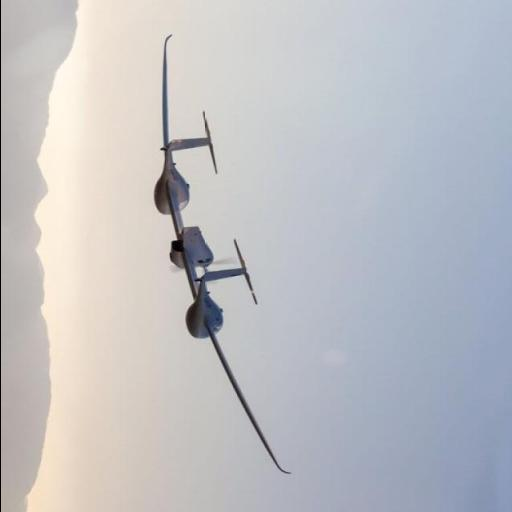uav: (109, 27, 310, 478)
